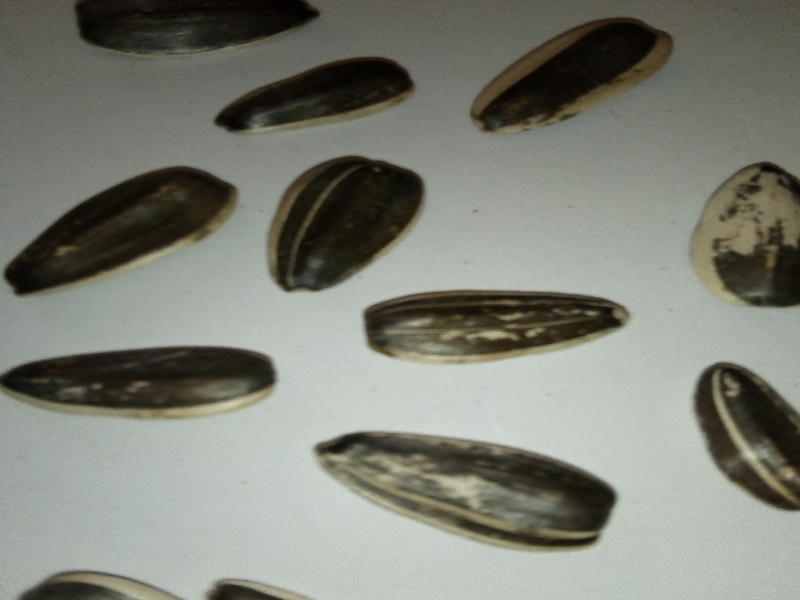w: (307, 412, 641, 571), (5, 156, 246, 315), (468, 13, 695, 143), (2, 340, 291, 427), (262, 147, 431, 291), (353, 281, 638, 365), (209, 56, 430, 141)
